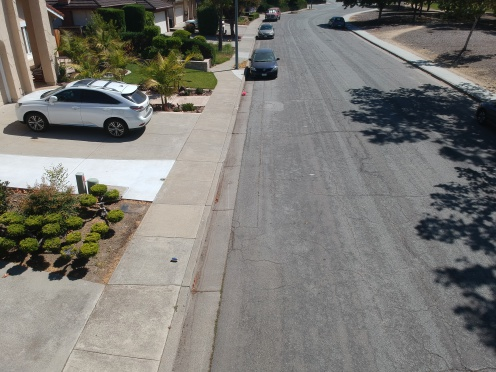plastic bag: (241, 87, 248, 100)
